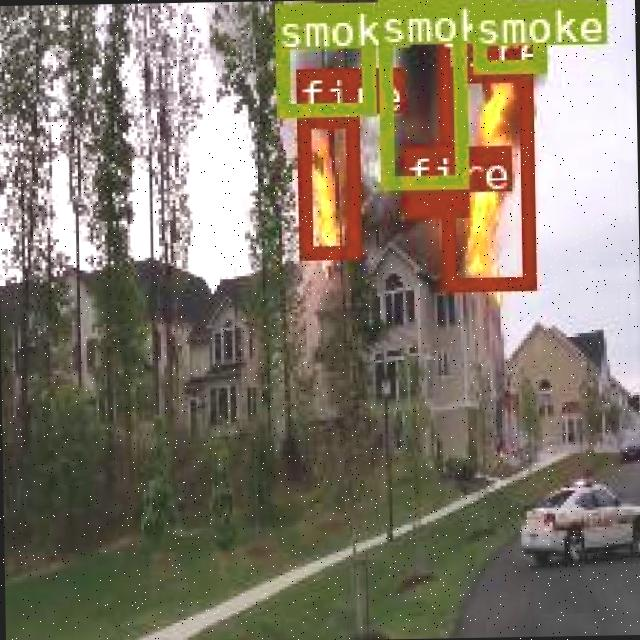fire: (438, 66, 532, 289), (294, 111, 357, 256), (402, 190, 466, 216)
smoke: (377, 0, 463, 187), (273, 0, 372, 115), (471, 0, 542, 69)
